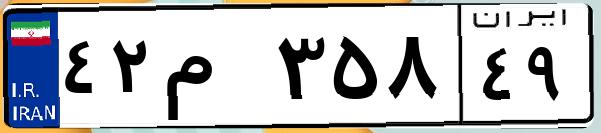2: (110, 28, 158, 98)
3: (270, 28, 330, 110)
4: (57, 26, 110, 100), (475, 38, 525, 113)
5: (330, 28, 385, 110)
8: (385, 28, 445, 110)
9: (525, 38, 570, 115)
م: (158, 20, 270, 120)
